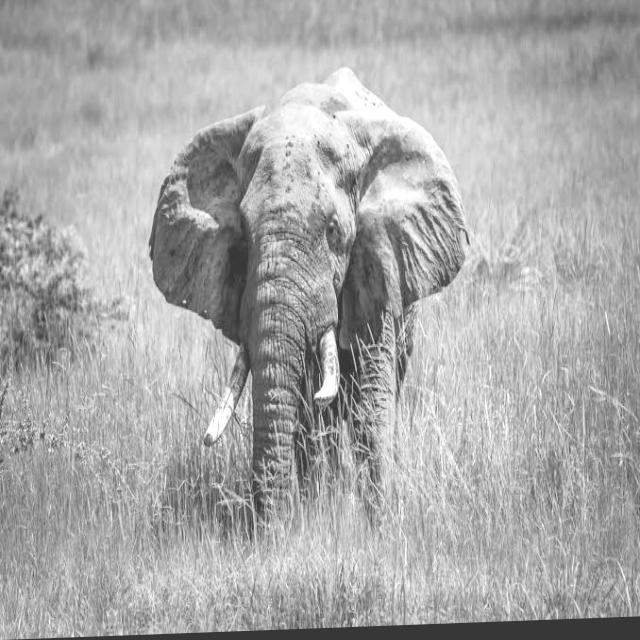Elephant: (148, 59, 470, 541)
